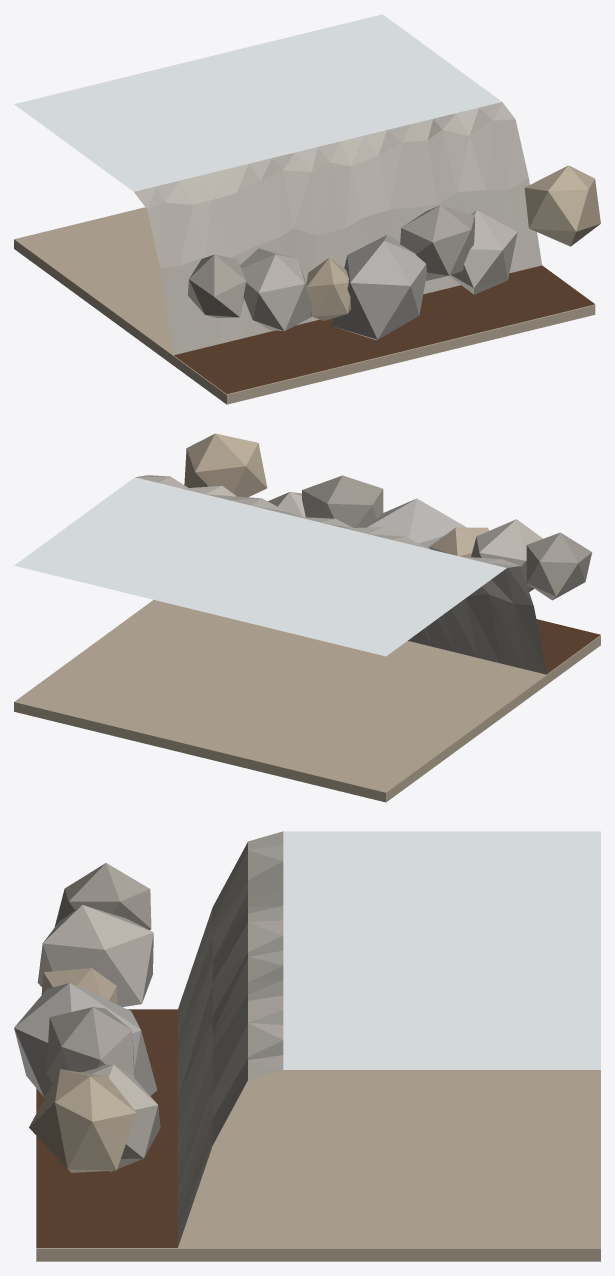
File: stream_bank.glb
3 renders of one model, top to bottom at view 1: azimuth 30°, elevation 25°; view 2: azimuth 150°, elevation 25°; view 3: azimuth 270°, elevation 25°, orthographic. The views are drawn at different scales.
Visible parts, largest first — view 1: stream_bank; view 2: stream_bank; view 3: stream_bank.
Boxes of the visible parts, box(x1,y1,x2,y2) form: stream_bank: box(14, 14, 600, 404); stream_bank: box(14, 433, 600, 802); stream_bank: box(14, 831, 600, 1261).
Size of the model in its own units: 2.16 by 0.75 by 2.08.
